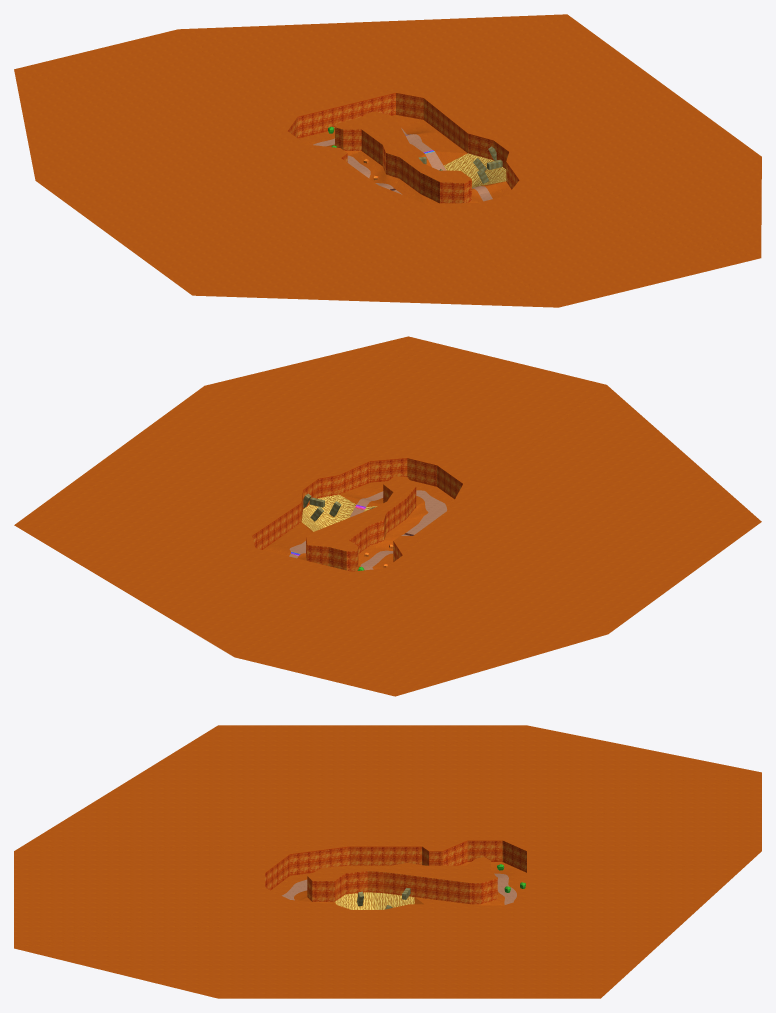
3 views of the same model, one above another, from view 1: azimuth 30°, elevation 25°; view 2: azimuth 150°, elevation 25°; view 3: azimuth 270°, elevation 25° (orthographic). The views are drawn at different scales.
Visible parts, largest first — view 1: course-SKP--Offroad.001, course-SKP--Wall.005, course-SKP--Road.006, course-SKP--Quicksand; view 2: course-SKP--Offroad.001, course-SKP--Wall.005, course-SKP--Road.006, course-SKP--Quicksand; view 3: course-SKP--Offroad.001, course-SKP--Wall.005, course-SKP--Quicksand, course-SKP--Road.006.
Part boxes in pixels (x1=…): course-SKP--Offroad.001: x1=14, y1=14, x2=761, y2=307; course-SKP--Wall.005: x1=288, y1=93, x2=519, y2=203; course-SKP--Road.006: x1=313, y1=128, x2=492, y2=201; course-SKP--Quicksand: x1=444, y1=153, x2=506, y2=187; course-SKP--Offroad.001: x1=14, y1=336, x2=761, y2=696; course-SKP--Wall.005: x1=252, y1=458, x2=462, y2=571; course-SKP--Road.006: x1=289, y1=490, x2=447, y2=570; course-SKP--Quicksand: x1=301, y1=494, x2=377, y2=531; course-SKP--Offroad.001: x1=14, y1=725, x2=761, y2=998; course-SKP--Wall.005: x1=265, y1=840, x2=526, y2=904; course-SKP--Quicksand: x1=335, y1=892, x2=414, y2=909; course-SKP--Road.006: x1=282, y1=873, x2=516, y2=904.
Bounding box in the file's own units: 200793 × 16459 × 232279.
Materials: 10 (9 with a texture image).
